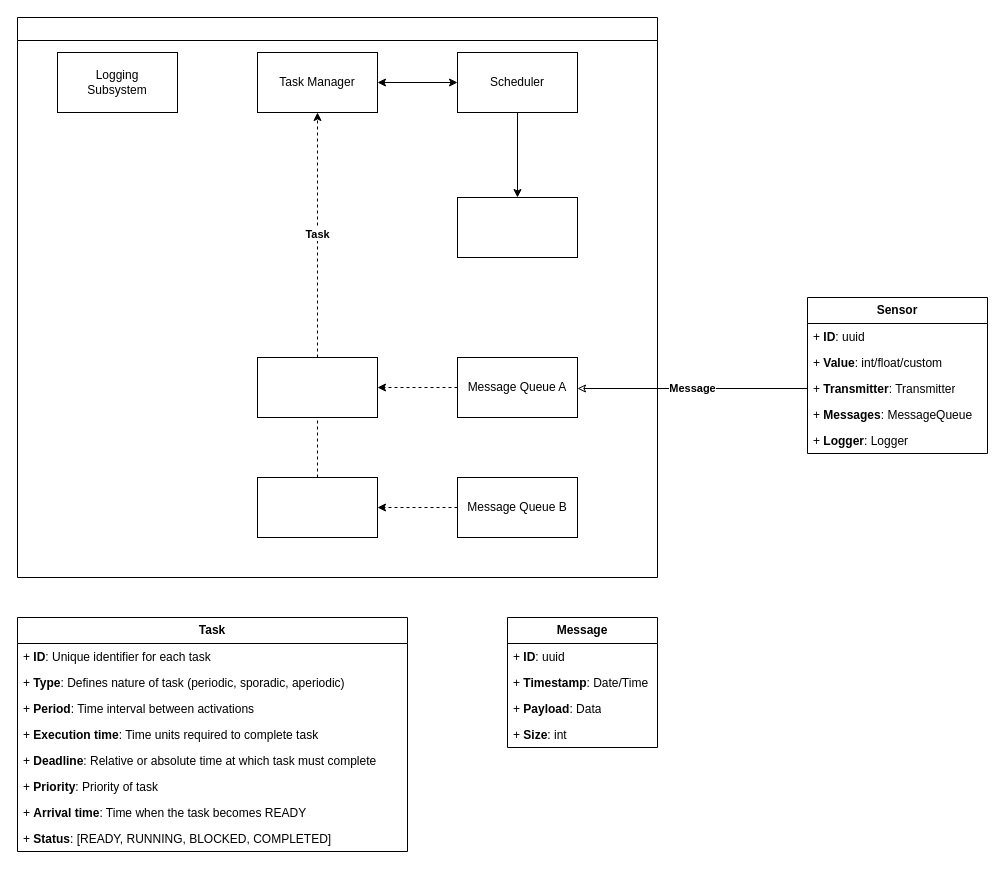
Image size: 1005x872. Some labels were removed from this diagram. Here are the shapes that lost their labels. From the top down, the box of each, then its label:
(456, 196, 578, 258): Clock / Timer
(16, 16, 658, 578): RTOS Simulator
(256, 356, 378, 418): Sensor Task A
(256, 476, 378, 538): Sensor Task B
